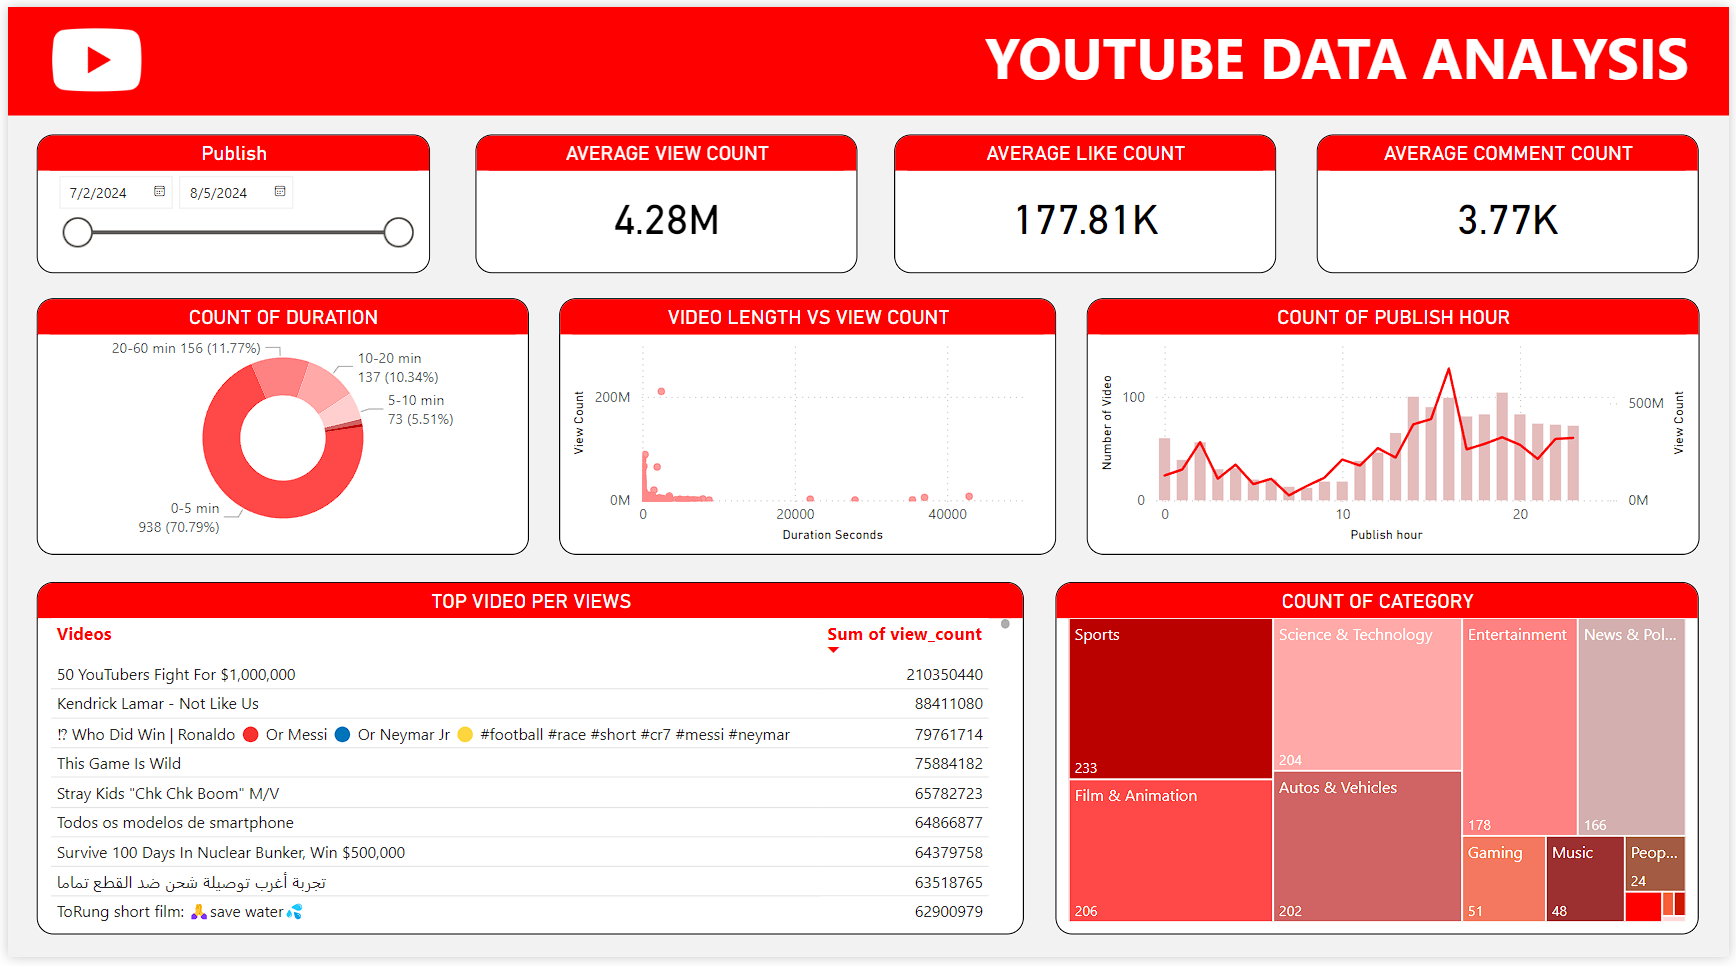

Layout of this report page (visuals, bound fields, positions):
{"tool":"powerbi","page":{"name":"Page 1","canvas":[1450,800],"ordinal":0},"visuals":[{"type":"shape","box":[0,0,1450,91.4],"z":0},{"type":"slicer","title":"Publish","fields":{"Values":["ytb_dt_visual.published_at"]},"box":[23.7,107.1,331.4,117.1],"z":1000},{"type":"textbox","box":[788.6,4.3,661.4,84.3],"z":2000},{"type":"treemap","title":"COUNT OF CATEGORY","fields":{"Group":["ytb_dt_visual.category"],"Values":["ytb_dt_visual.category"]},"box":[882.3,484.3,541.4,297.1],"z":3000},{"type":"card","title":"AVERAGE LIKE COUNT","fields":{"Values":["ytb_dt_visual.like_count"]},"box":[746.6,107.1,321.4,117.1],"z":4000},{"type":"card","title":"AVERAGE COMMENT COUNT","fields":{"Values":["ytb_dt_visual.comment_count"]},"box":[1102.3,107.1,321.4,117.1],"z":5000},{"type":"card","title":"AVERAGE VIEW COUNT","fields":{"Values":["ytb_dt_visual.view_count"]},"box":[393.7,107.1,321.4,117.1],"z":6000},{"type":"donutChart","title":"COUNT OF DURATION","fields":{"Category":["ytb_dt_visual.duration_range"],"Y":["ytb_dt_visual.duration_seconds"]},"box":[23.7,245.7,414.3,215.7],"z":7000},{"type":"image","box":[15,8.8,120,71.2],"z":8000},{"type":"lineClusteredColumnComboChart","title":"COUNT OF PUBLISH HOUR","fields":{"Category":["ytb_dt_visual.publish_hour"],"Y":["ytb_dt_visual.publish_hour"],"Y2":["ytb_dt_visual.view_count"]},"box":[908,245.7,515.7,215.7],"z":9000},{"type":"tableEx","title":"TOP VIDEO PER VIEWS","fields":{"Values":["ytb_dt_visual.title","ytb_dt_visual.view_count"]},"box":[23.7,484.3,831.4,297.1],"z":10000},{"type":"scatterChart","title":"VIDEO LENGTH VS VIEW COUNT","fields":{"X":["ytb_dt_visual.duration_seconds"],"Y":["ytb_dt_visual.view_count"],"Category":["ytb_dt_visual.view_count"]},"box":[463.7,245.7,418.6,215.7],"z":11000}]}

Visuals, with their boxes in screenshot pixels (x1, y1, x2, y2), scaled from the page's 1450x800 canvas onto the 1736x966 screenshot:
shape: left=0, top=0, right=1735, bottom=110
"Publish" slicer: left=28, top=129, right=425, bottom=271
textbox: left=944, top=5, right=1735, bottom=107
"COUNT OF CATEGORY" treemap: left=1056, top=585, right=1705, bottom=944
"AVERAGE LIKE COUNT" card: left=894, top=129, right=1279, bottom=271
"AVERAGE COMMENT COUNT" card: left=1320, top=129, right=1705, bottom=271
"AVERAGE VIEW COUNT" card: left=471, top=129, right=856, bottom=271
"COUNT OF DURATION" donutChart: left=28, top=297, right=524, bottom=557
image: left=18, top=11, right=162, bottom=97
"COUNT OF PUBLISH HOUR" lineClusteredColumnComboChart: left=1087, top=297, right=1705, bottom=557
"TOP VIDEO PER VIEWS" tableEx: left=28, top=585, right=1024, bottom=944
"VIDEO LENGTH VS VIEW COUNT" scatterChart: left=555, top=297, right=1056, bottom=557
